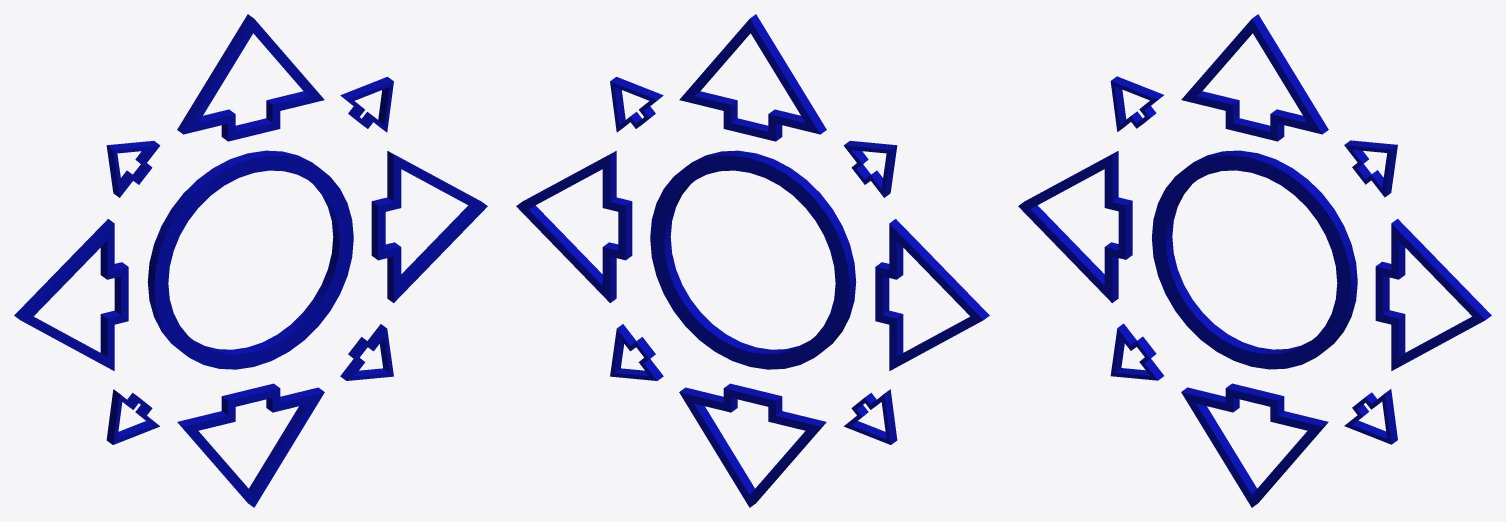
Rendered from Joystick_7.FBX.
3 renders of one model, left to right at view 1: azimuth 30°, elevation 25°; view 2: azimuth 150°, elevation 25°; view 3: azimuth 330°, elevation 25°, orthographic.
Parts seen in each view (by area): view 1: Joystick_7; view 2: Joystick_7; view 3: Joystick_7.
Boxes of the visible parts, bbox=[...] form: Joystick_7: bbox=[14, 14, 487, 507]; Joystick_7: bbox=[516, 14, 989, 507]; Joystick_7: bbox=[1018, 14, 1491, 507].
Size of the model in its own units: 84.17 by 84.17 by 2.01.
